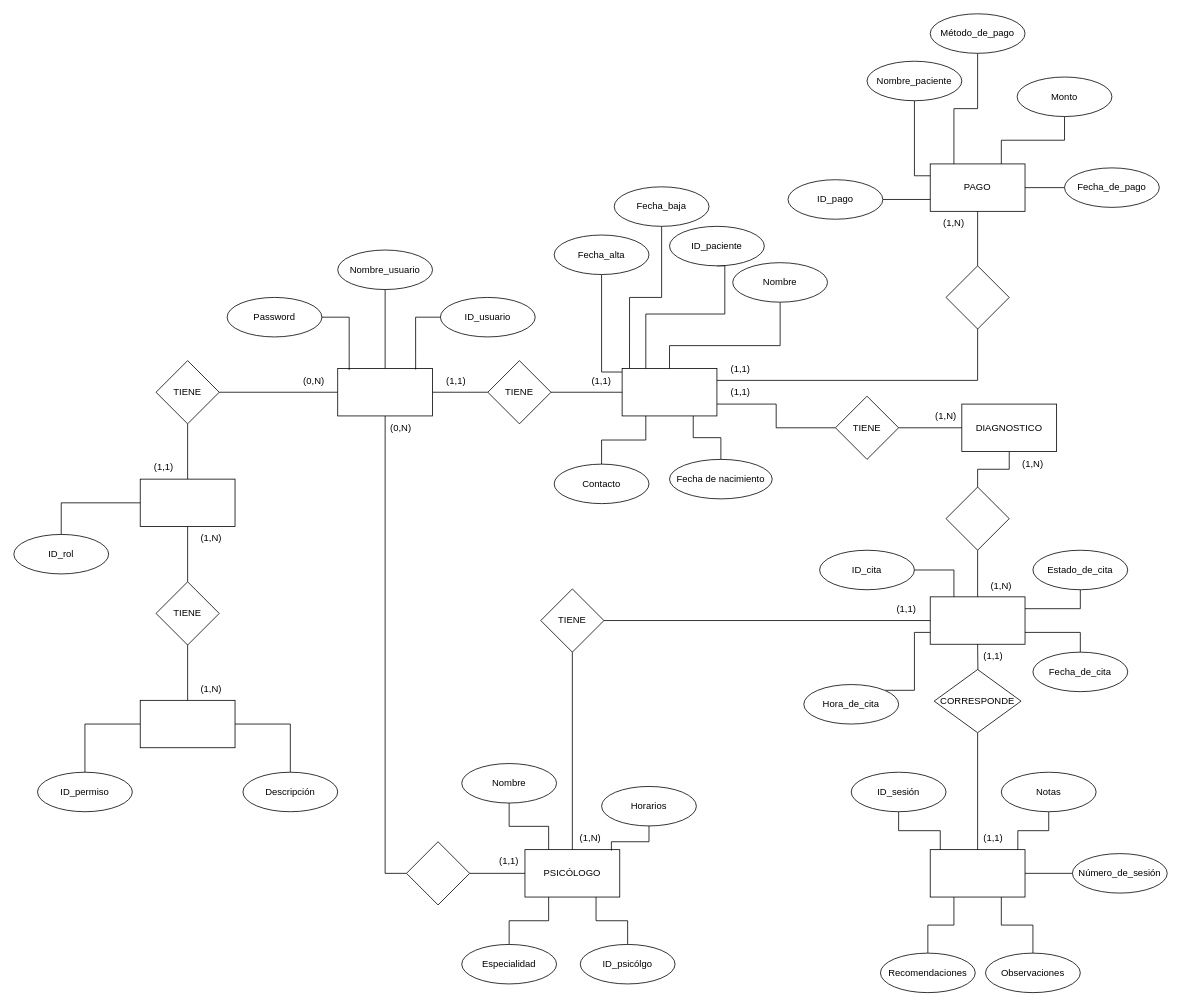
The diagram is 1181 pixels wide and 1006 high, and some of its shapes have lost their labels. The shapes that lost their labels are listed below. From the top down, each one's centre as x and y in pixels, then its label:
[977,297]: REALIZA
[385,392]: USUARIO
[669,392]: PACIENTE
[187,502]: ROL
[977,518]: PRODUCE
[977,620]: CITA
[187,724]: PERMISOS
[438,873]: ASIGNA
[977,873]: SESIÓN
